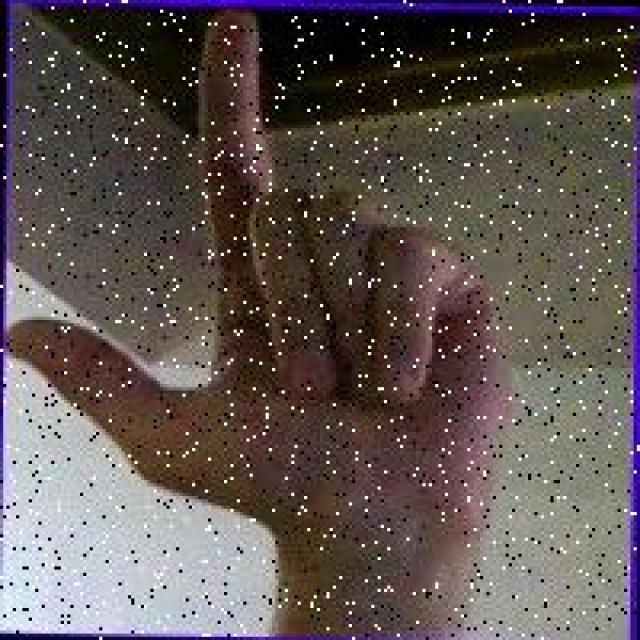L: (3, 2, 525, 571)
